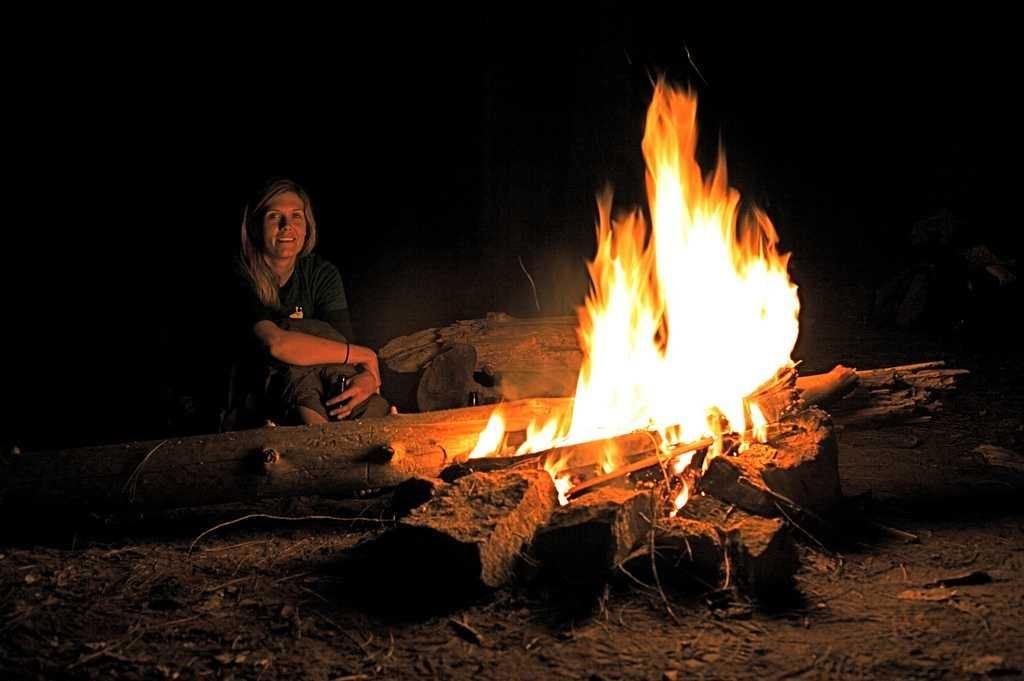fire: (670, 277, 788, 385), (592, 323, 645, 423), (660, 202, 728, 267)
